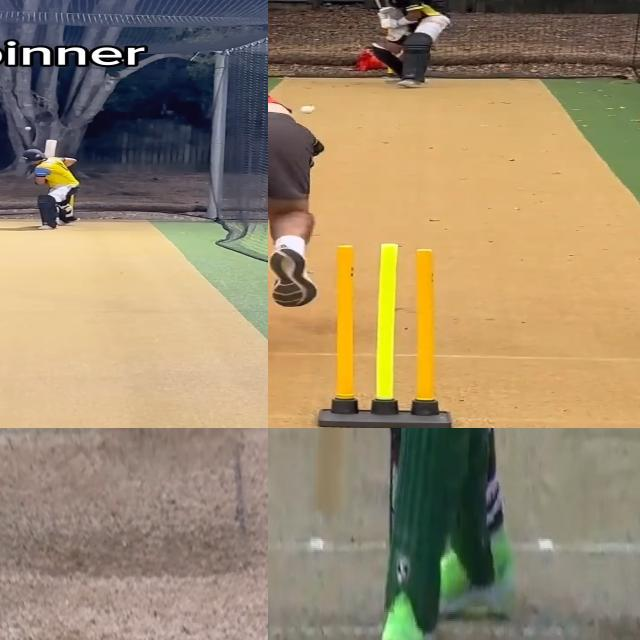Cricket ball: (298, 104, 317, 115), (24, 126, 32, 130)
Stumps: (317, 243, 454, 428)
